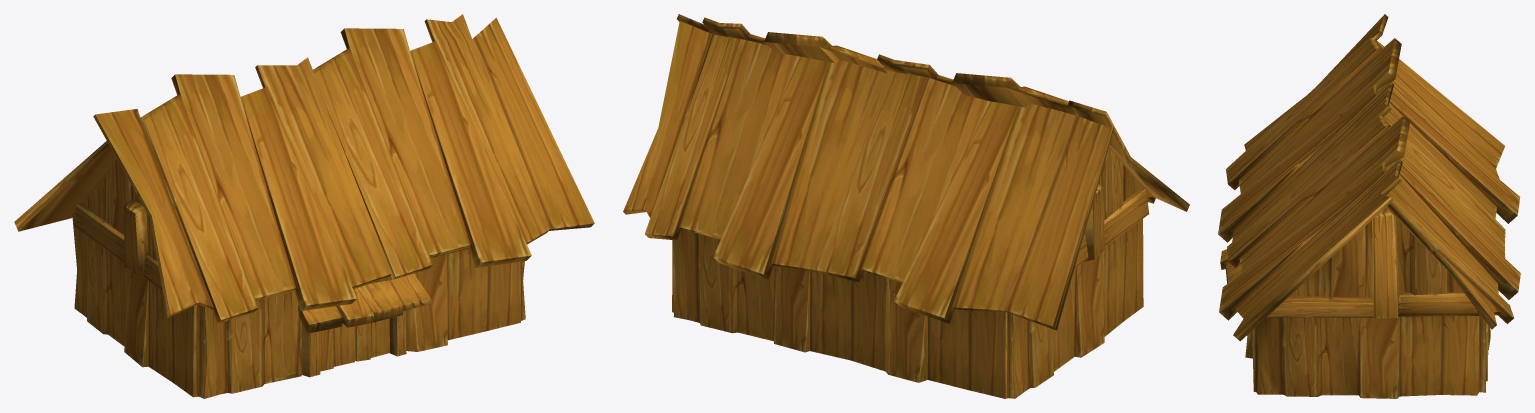
The model's file is Huangdi_jianzhu02.FBX.
3 renders of one model, left to right at view 1: azimuth 30°, elevation 25°; view 2: azimuth 150°, elevation 25°; view 3: azimuth 270°, elevation 25°, orthographic. The views are drawn at different scales.
Visible parts, largest first — view 1: Object152; view 2: Object152; view 3: Object152.
Boxes of the visible parts, x1=… form: Object152: x1=14, y1=14, x2=594, y2=398; Object152: x1=623, y1=14, x2=1189, y2=398; Object152: x1=1218, y1=14, x2=1520, y2=398.
Bounding box in the file's own units: 434 × 250 × 290.
